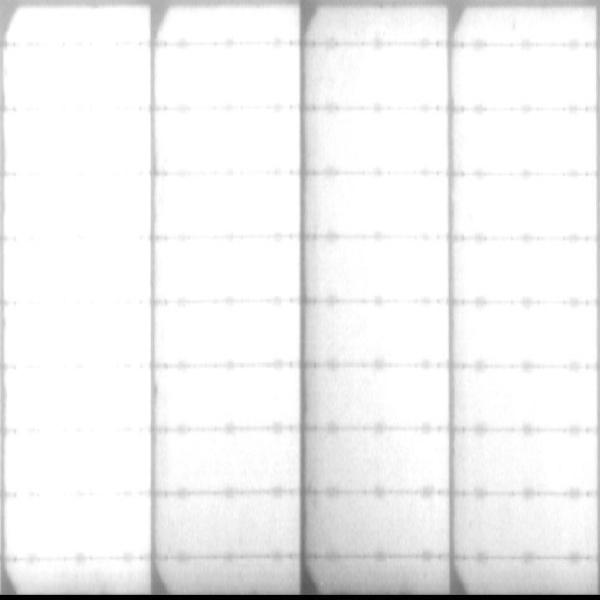hot_spot: (14, 8, 141, 561), (165, 48, 288, 103), (161, 307, 287, 359), (458, 53, 592, 101), (470, 182, 593, 232), (163, 182, 289, 230), (161, 117, 288, 164), (466, 247, 592, 294), (468, 121, 593, 168), (170, 442, 297, 487), (166, 250, 297, 293), (167, 377, 290, 421), (490, 314, 588, 362), (343, 187, 447, 232), (346, 120, 442, 165), (492, 377, 592, 420), (364, 54, 448, 103), (351, 248, 444, 292), (537, 441, 590, 487), (390, 313, 438, 358)
